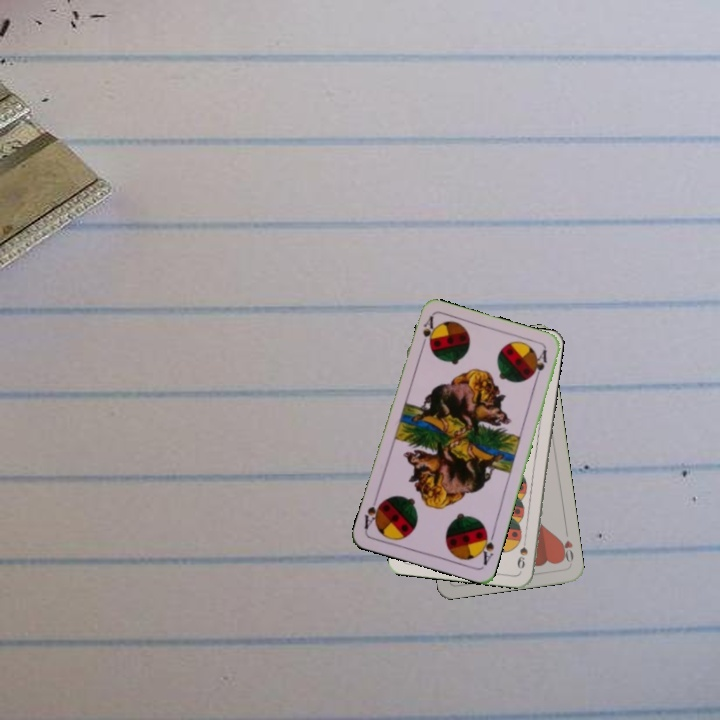HO: (556, 535, 576, 565)
S9: (513, 532, 530, 571)
SA: (475, 526, 497, 568), (417, 312, 436, 352)
